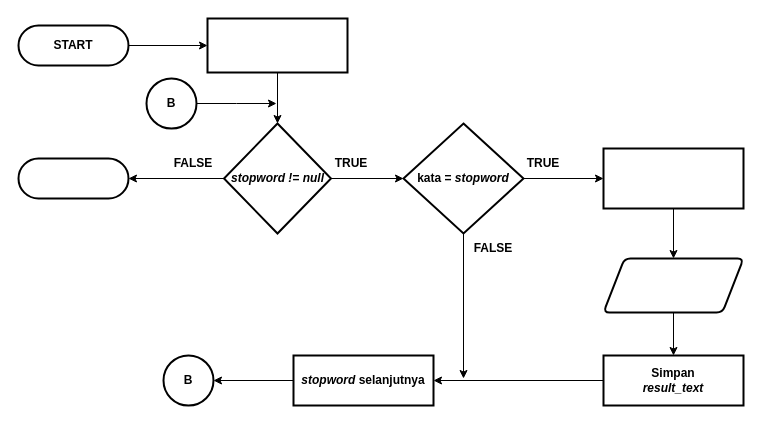
This 761x423 diagram has some shape labels left out. The shapes that lost their labels are listed below. From the top down, each one's box as (x1, y1, x2, y2) in pixels, then its label:
(206, 17, 348, 73): Select kamus stopword
(17, 157, 129, 199): END
(602, 147, 744, 209): Hapus kata stopword yang terdapat dalam result_text
(602, 257, 744, 313): Output result_text
